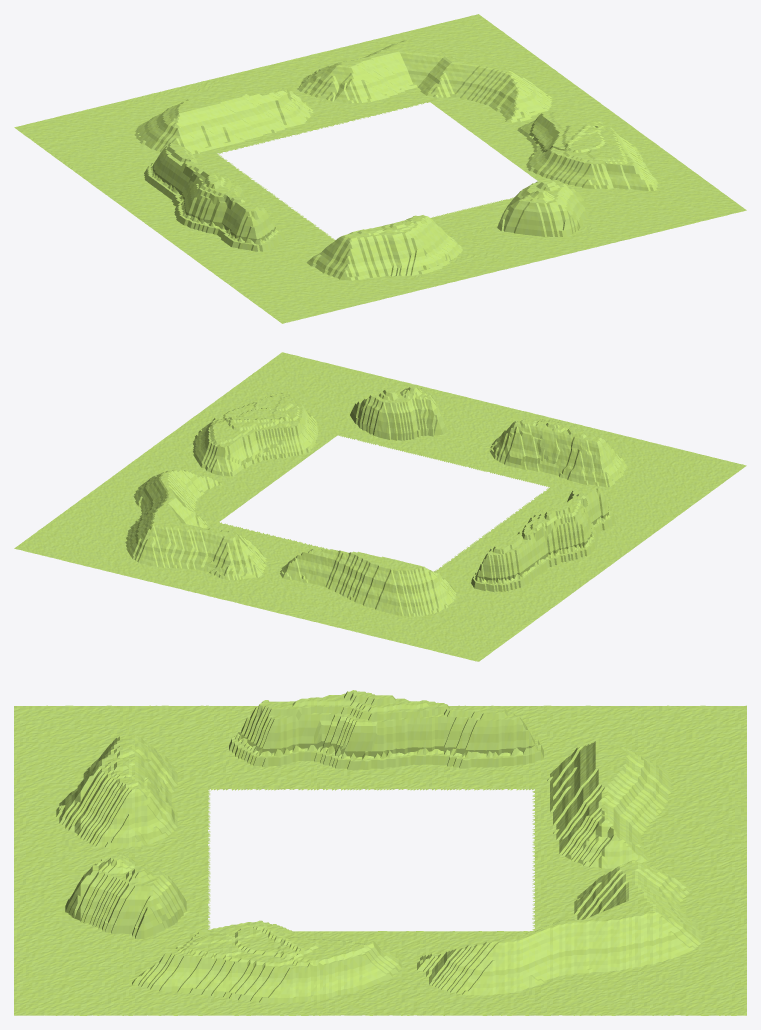
Rendered from Mountains.fbx.
The picture shows the model from 3 angles, top to bottom: view 1: azimuth 30°, elevation 25°; view 2: azimuth 150°, elevation 25°; view 3: azimuth 270°, elevation 25°; orthographic projection. The views are drawn at different scales.
Visible parts, largest first — view 1: Plane.001; view 2: Plane.001; view 3: Plane.001.
Boxes of the visible parts, left/top/right/bottom form: Plane.001: left=14, top=14, right=746, bottom=323; Plane.001: left=14, top=352, right=746, bottom=661; Plane.001: left=14, top=690, right=746, bottom=1015.
Bounding box in the file's own units: 45933 × 3504 × 45933.
